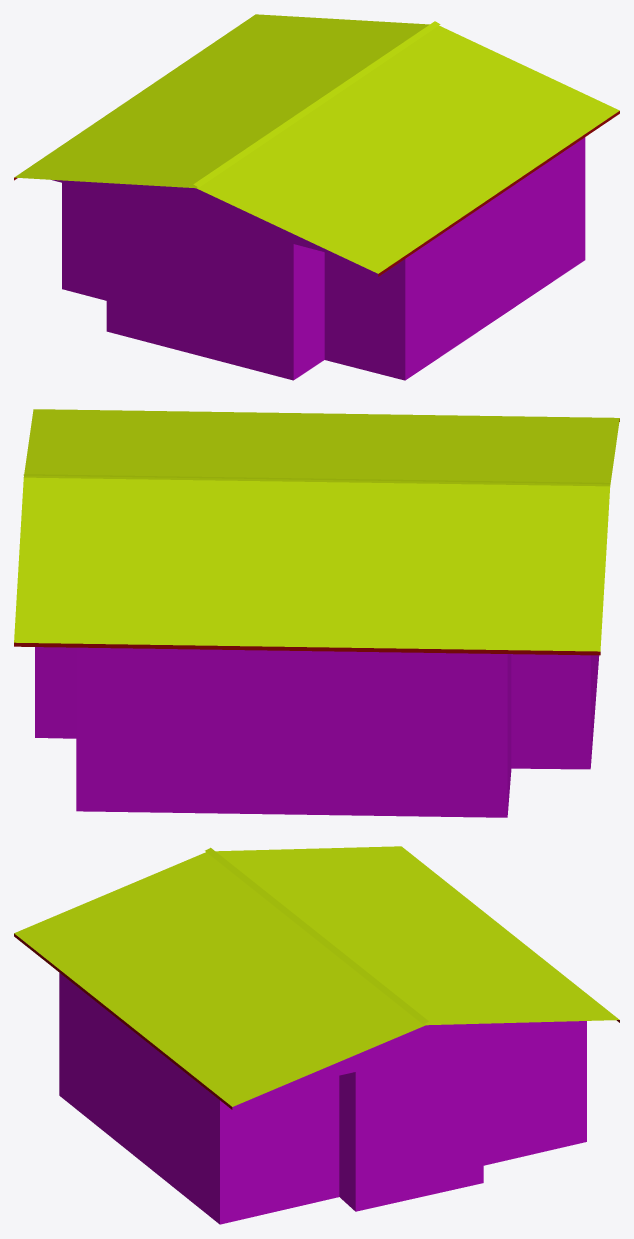
File: bgj_11.glb
The picture shows the model from 3 angles, top to bottom: view 1: azimuth 30°, elevation 25°; view 2: azimuth 150°, elevation 25°; view 3: azimuth 270°, elevation 25°; orthographic projection. The views are drawn at different scales.
Parts seen in each view (by area): view 1: bgj_11; view 2: bgj_11; view 3: bgj_11.
Part boxes in pixels (<box>): bgj_11: <box>14,14,619,380</box>; bgj_11: <box>14,409,619,817</box>; bgj_11: <box>14,846,619,1224</box>.
Size of the model in its own units: 21.54 by 6.91 by 21.15.
